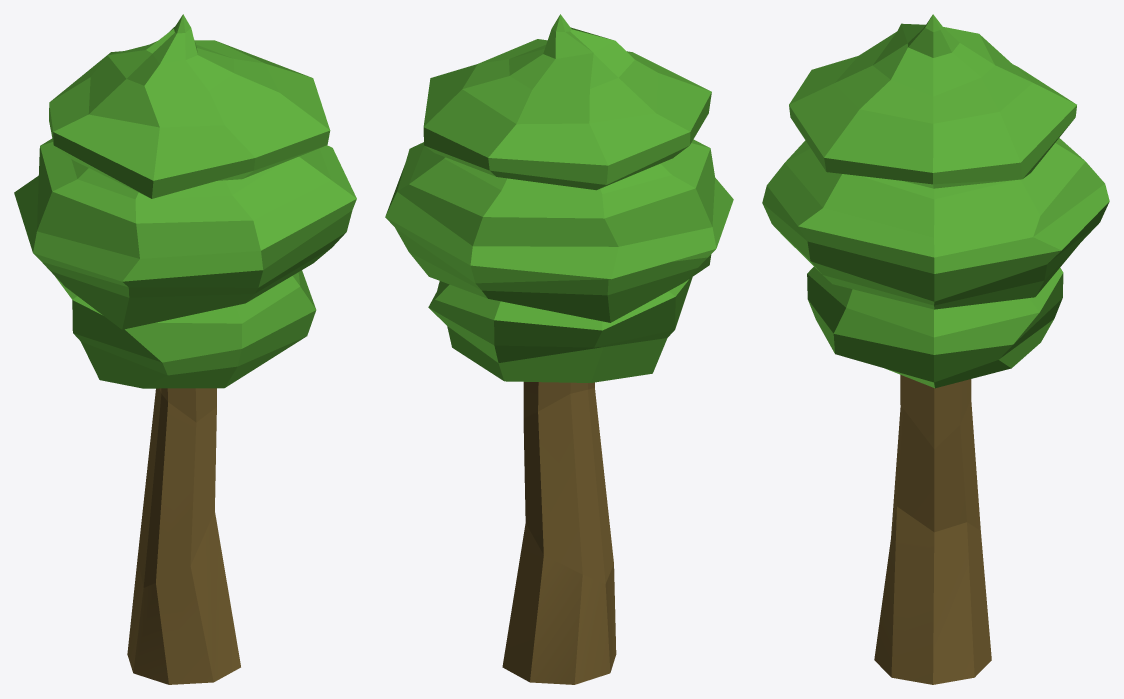
File: smallsingle.glb
3 renders of one model, left to right at view 1: azimuth 30°, elevation 25°; view 2: azimuth 150°, elevation 25°; view 3: azimuth 270°, elevation 25°, orthographic.
Visible parts, largest first — view 1: Circle.007_Material.019_0; view 2: Circle.007_Material.019_0; view 3: Circle.007_Material.019_0.
Part boxes in pixels (<box>): Circle.007_Material.019_0: <box>14,14,356,684</box>; Circle.007_Material.019_0: <box>385,14,733,684</box>; Circle.007_Material.019_0: <box>762,14,1109,684</box>.
Size of the model in its own units: 509 by 1025 by 500.
